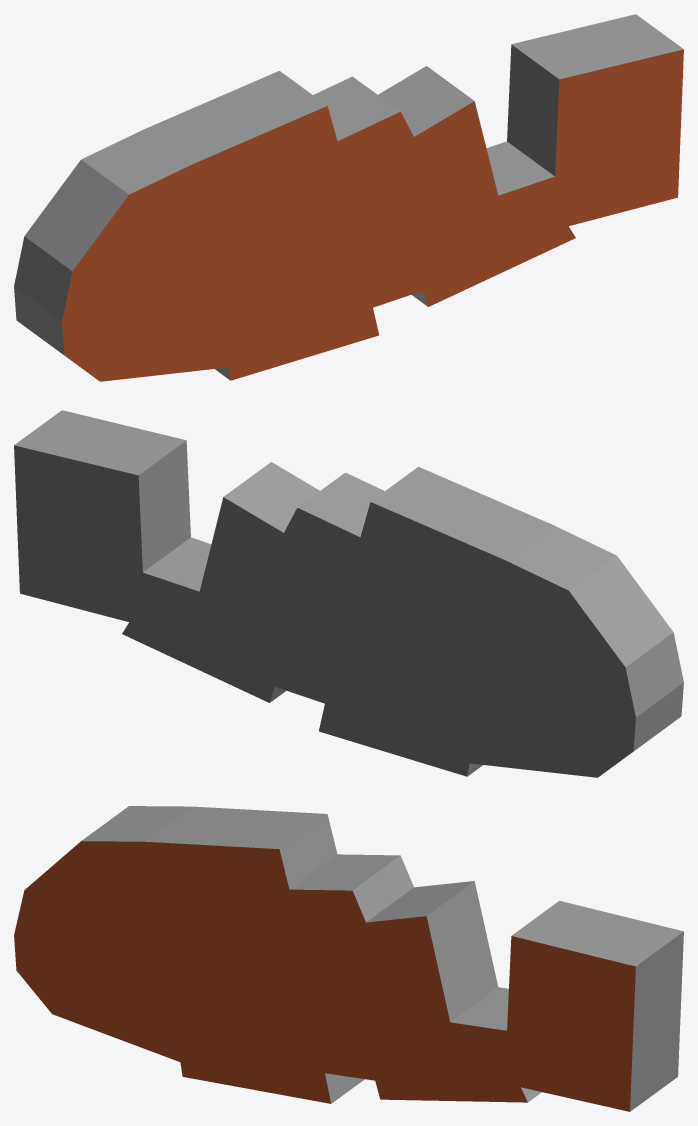
Rendered from construction_4551_assumed_A_Casa_h6m.obj.
The picture shows the model from 3 angles, top to bottom: view 1: azimuth 30°, elevation 25°; view 2: azimuth 150°, elevation 25°; view 3: azimuth 330°, elevation 25°; orthographic projection.
Visible parts, largest first — view 1: construction_4551_assumed_A_Casa; view 2: construction_4551_assumed_A_Casa; view 3: construction_4551_assumed_A_Casa.
Part boxes in pixels (bbox=[...]): construction_4551_assumed_A_Casa: bbox=[14, 14, 683, 381]; construction_4551_assumed_A_Casa: bbox=[14, 410, 683, 777]; construction_4551_assumed_A_Casa: bbox=[14, 806, 683, 1111].
Size of the model in its own units: 44.83 by 17.31 by 6.
